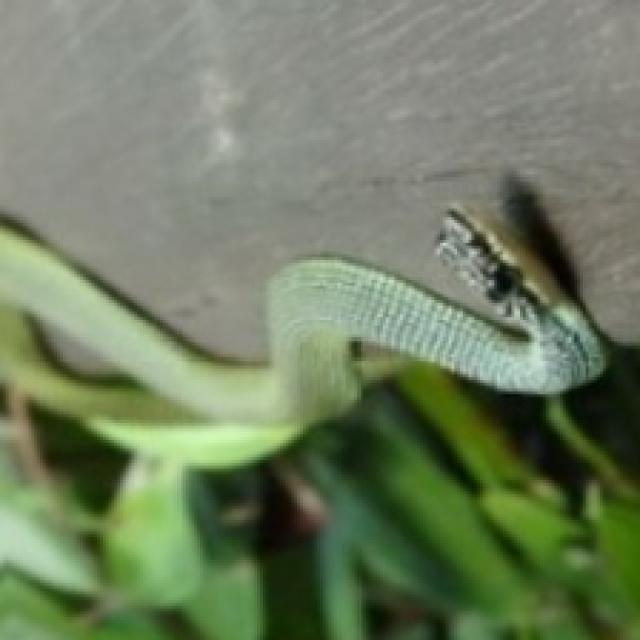paradise tree snake: (0, 203, 606, 497)
